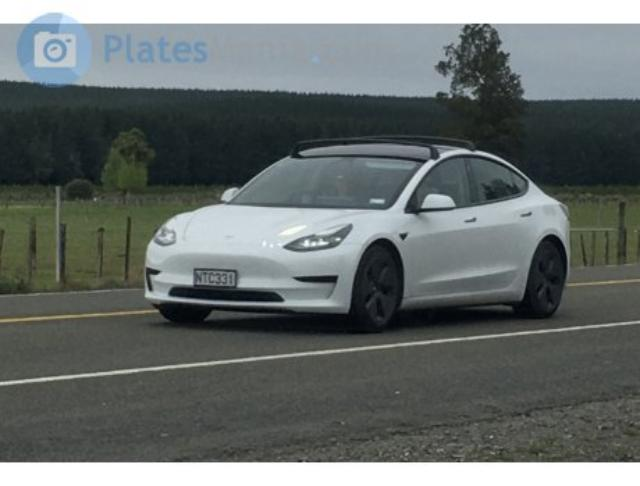Rego: (193, 268, 237, 289)
